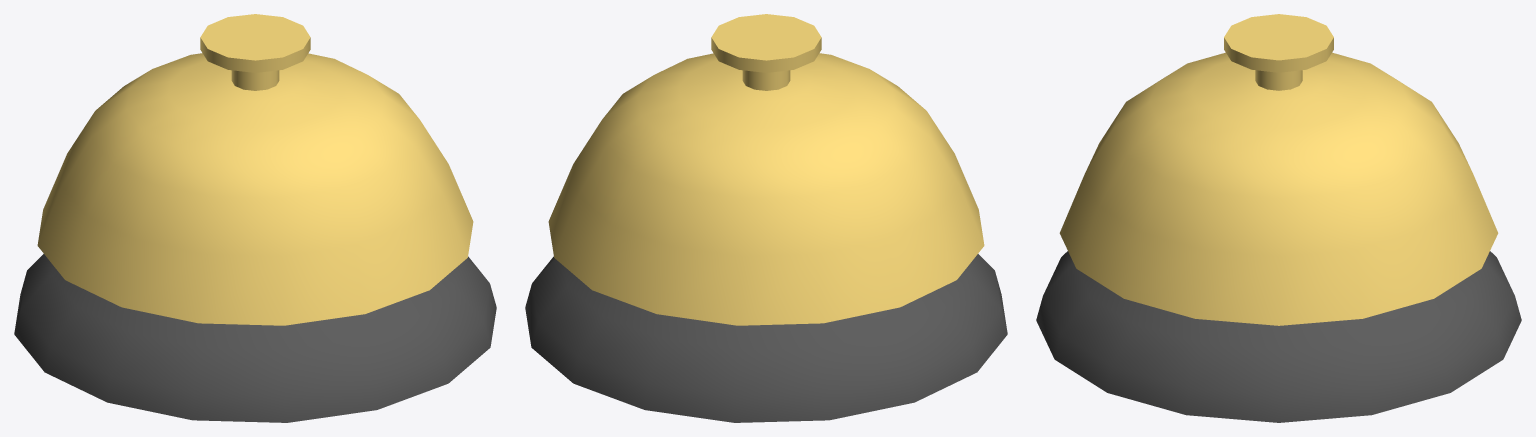
The model's file is Bell.fbx.
The picture shows the model from 3 angles, left to right: view 1: azimuth 30°, elevation 25°; view 2: azimuth 150°, elevation 25°; view 3: azimuth 270°, elevation 25°; orthographic projection.
Visible parts, largest first — view 1: Bell_Body, Bell_Foot, Bell_Button; view 2: Bell_Body, Bell_Foot, Bell_Button; view 3: Bell_Body, Bell_Foot, Bell_Button.
Boxes of the visible parts, x1,y1,x2,y2 form: Bell_Body: (37, 53, 473, 325); Bell_Foot: (14, 254, 496, 422); Bell_Button: (200, 14, 310, 90); Bell_Body: (548, 53, 984, 325); Bell_Foot: (525, 254, 1007, 422); Bell_Button: (711, 14, 821, 90); Bell_Body: (1059, 52, 1498, 325); Bell_Foot: (1036, 251, 1521, 422); Bell_Button: (1224, 14, 1333, 90).
Size of the model in its own units: 0.1019 by 0.0656 by 0.1019.
